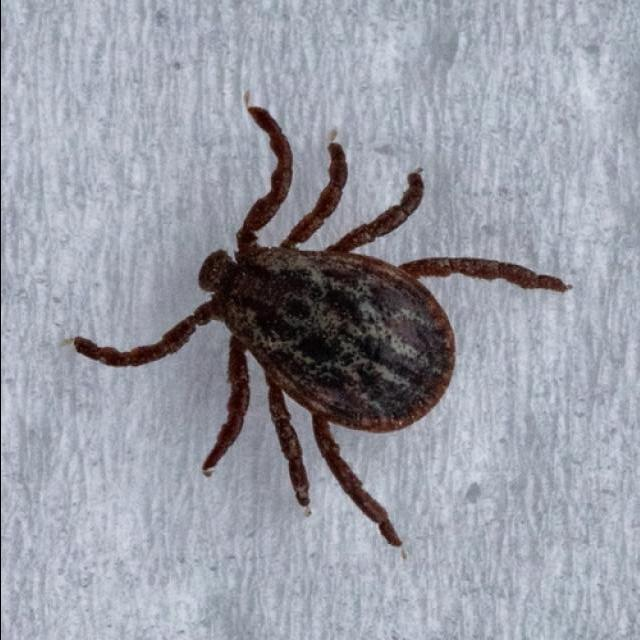Dermacentor Reticulatus-M: (72, 104, 564, 547)
